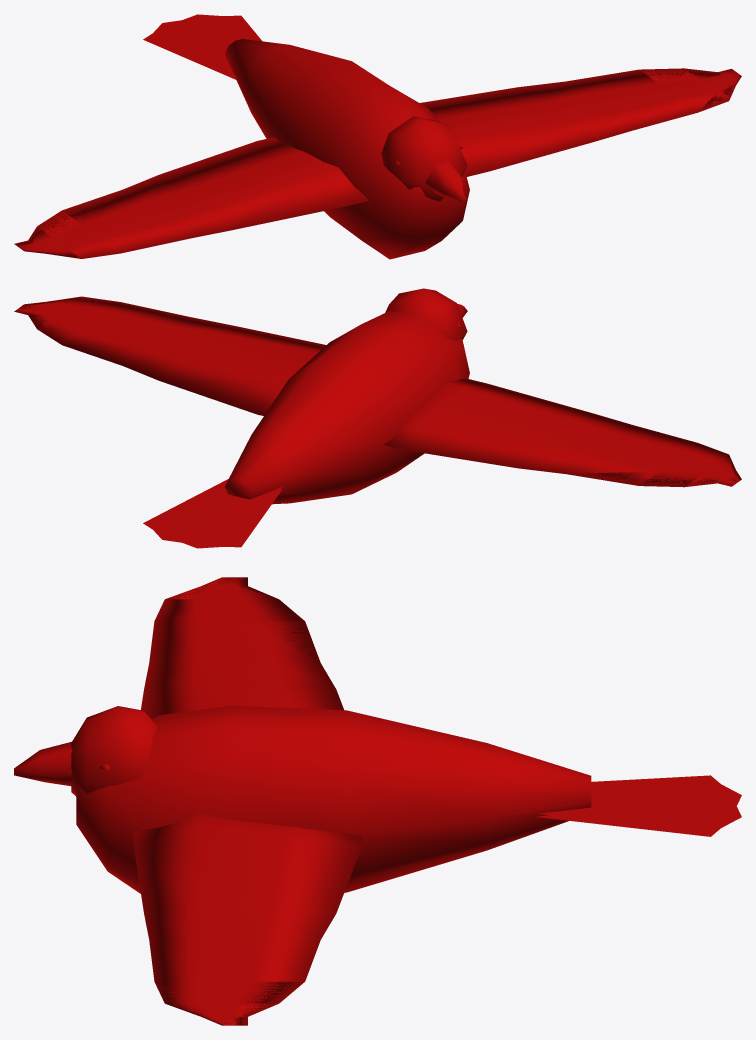
File: blackgrouse.glb
3 renders of one model, top to bottom at view 1: azimuth 30°, elevation 25°; view 2: azimuth 150°, elevation 25°; view 3: azimuth 270°, elevation 25°, orthographic. The views are drawn at different scales.
Parts seen in each view (by area): view 1: wing, body; view 2: wing, body; view 3: body, wing.
Part boxes in pixels (left/top/right/bottom): wing: left=14, top=68, right=741, bottom=258; body: left=143, top=14, right=469, bottom=259; wing: left=14, top=296, right=741, bottom=487; body: left=143, top=288, right=469, bottom=548; body: left=14, top=705, right=741, bottom=893; wing: left=133, top=577, right=362, bottom=1025.
Bounding box in the file's own units: 0.7969 × 0.1562 × 0.5469.
